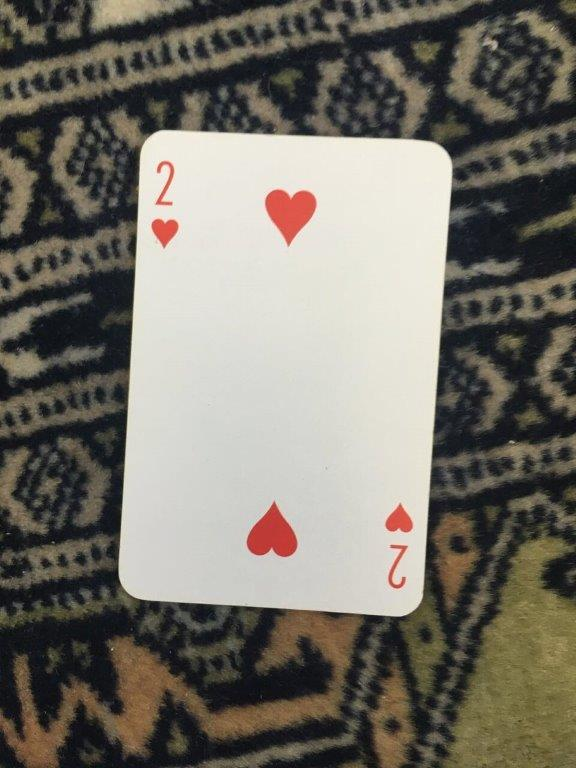2H: (114, 126, 456, 621)
